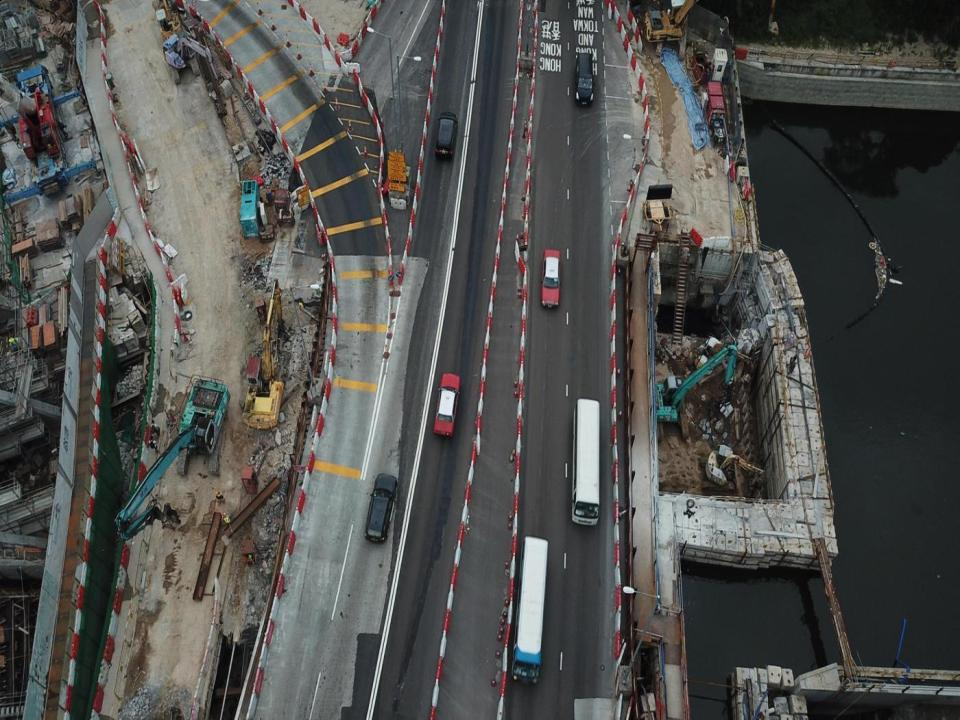bus: (511, 536, 549, 686), (571, 400, 602, 526)
car: (364, 472, 399, 546), (432, 370, 459, 438), (571, 50, 597, 108), (540, 248, 562, 309), (434, 111, 459, 159)
